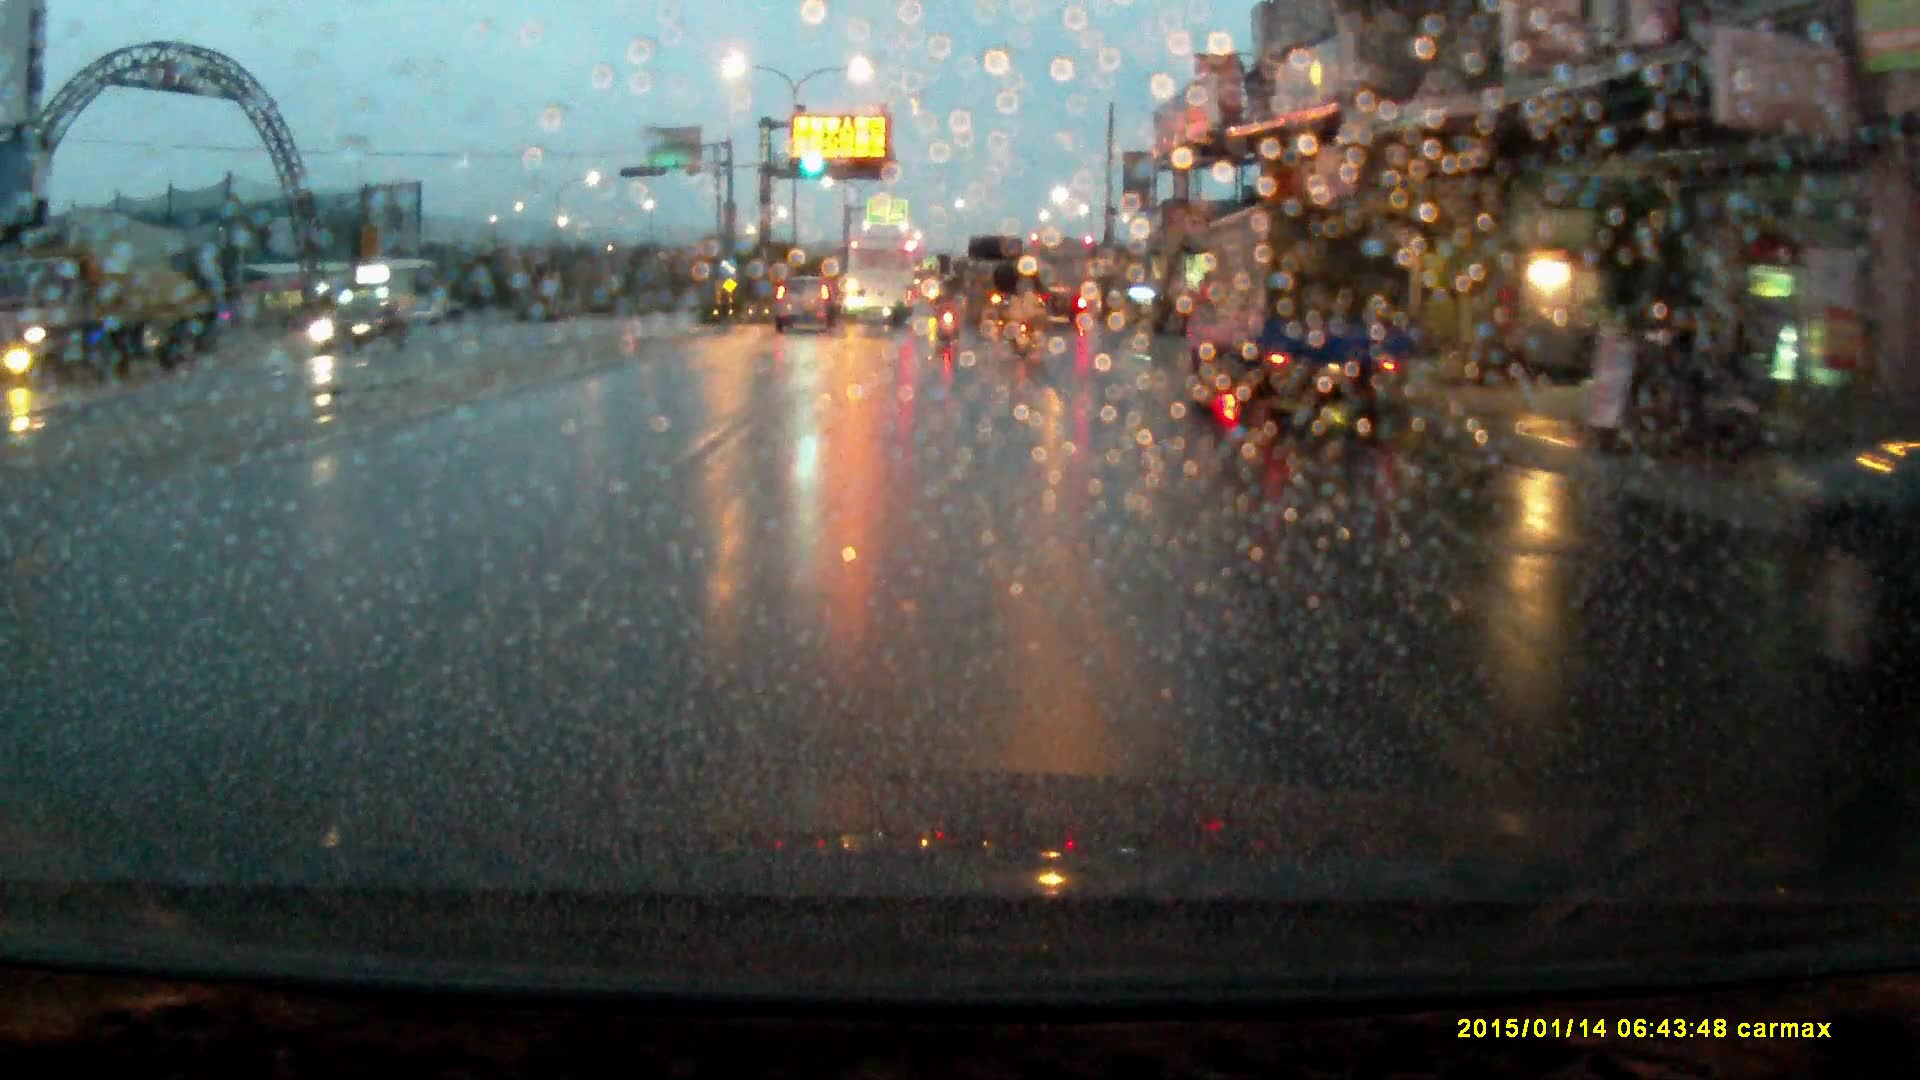rider: (1003, 276, 1044, 361), (932, 277, 962, 343)
vehicle: (1179, 204, 1423, 432), (4, 248, 212, 376), (967, 237, 1042, 327), (844, 238, 916, 330), (312, 295, 405, 360), (1030, 241, 1096, 326), (775, 272, 841, 331)
